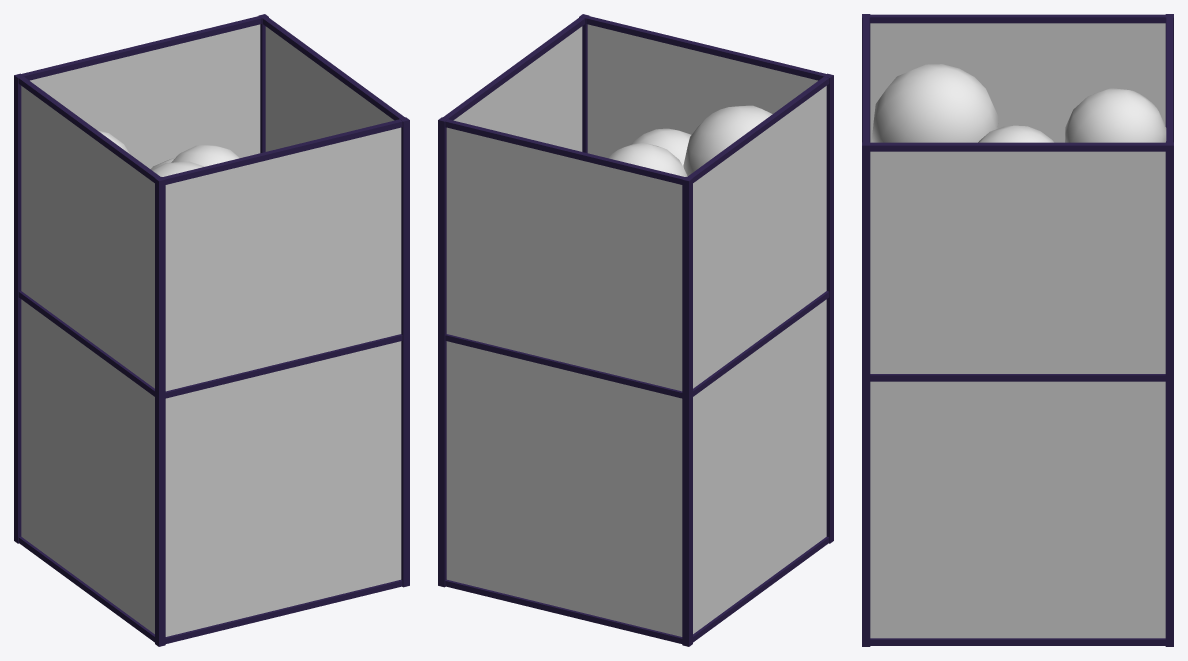
Rendered from BallBin.fbx.
3 renders of one model, left to right at view 1: azimuth 30°, elevation 25°; view 2: azimuth 150°, elevation 25°; view 3: azimuth 270°, elevation 25°, orthographic. The views are drawn at different scales.
Parts seen in each view (by area): view 1: BallBin, Sphere.025; view 2: BallBin, Sphere.022, Sphere.025, Sphere.024; view 3: BallBin, Sphere.022, Sphere.016, Sphere.025.
Boxes of the visible parts, x1,y1,x2,y2 form: BallBin: (14, 14, 409, 646); Sphere.025: (171, 145, 239, 166); BallBin: (438, 14, 833, 646); Sphere.022: (683, 105, 772, 176); Sphere.025: (608, 142, 687, 176); Sphere.024: (631, 128, 691, 167); BallBin: (862, 14, 1173, 646); Sphere.022: (872, 64, 998, 142); Sphere.016: (1065, 88, 1166, 142); Sphere.025: (978, 125, 1053, 142).
Size of the model in its own units: 1.92 by 3.41 by 1.92.
